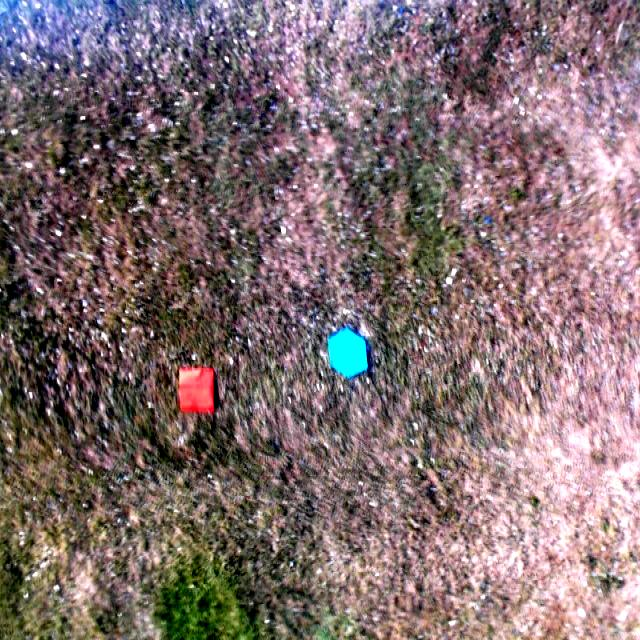blue_hexagon: (328, 326, 369, 379)
red_square: (179, 368, 215, 412)
